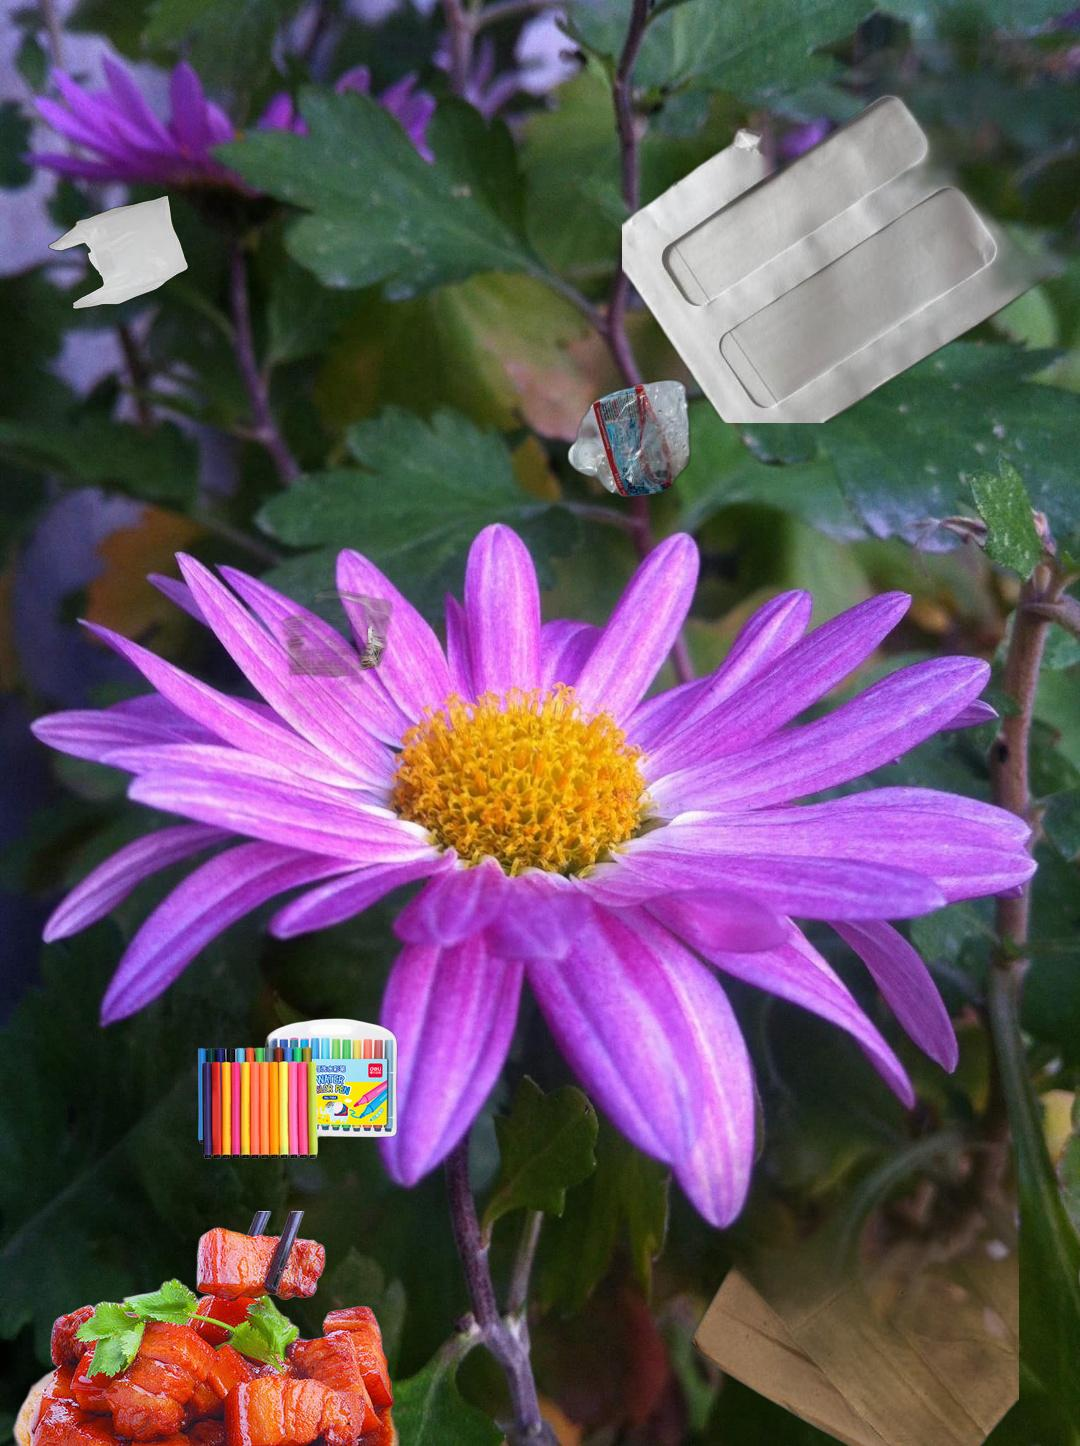biological: (6, 1211, 416, 1446)
paper: (622, 39, 1080, 423), (993, 1221, 1080, 1446)
penholder: (195, 1015, 400, 1162)
plastic-bag: (47, 192, 191, 312)
plastic-bottles: (563, 377, 697, 499)
trashbox-cardboard: (507, 1076, 1019, 1446), (204, 582, 504, 783)
